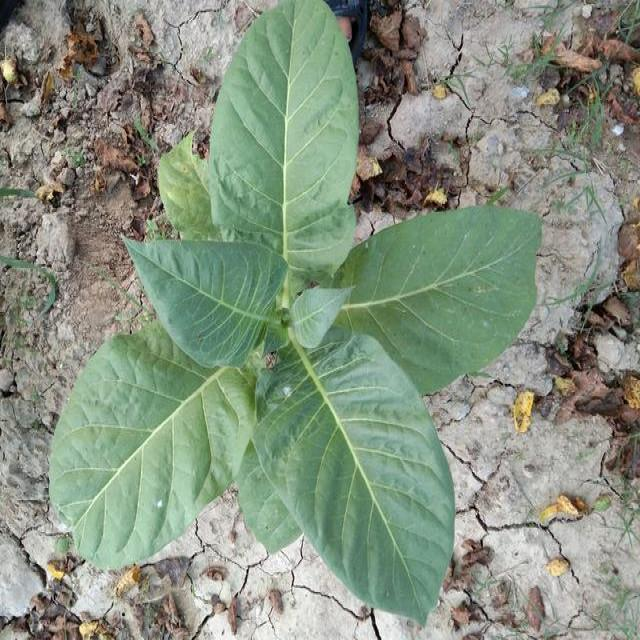crop: (52, 0, 543, 629)
